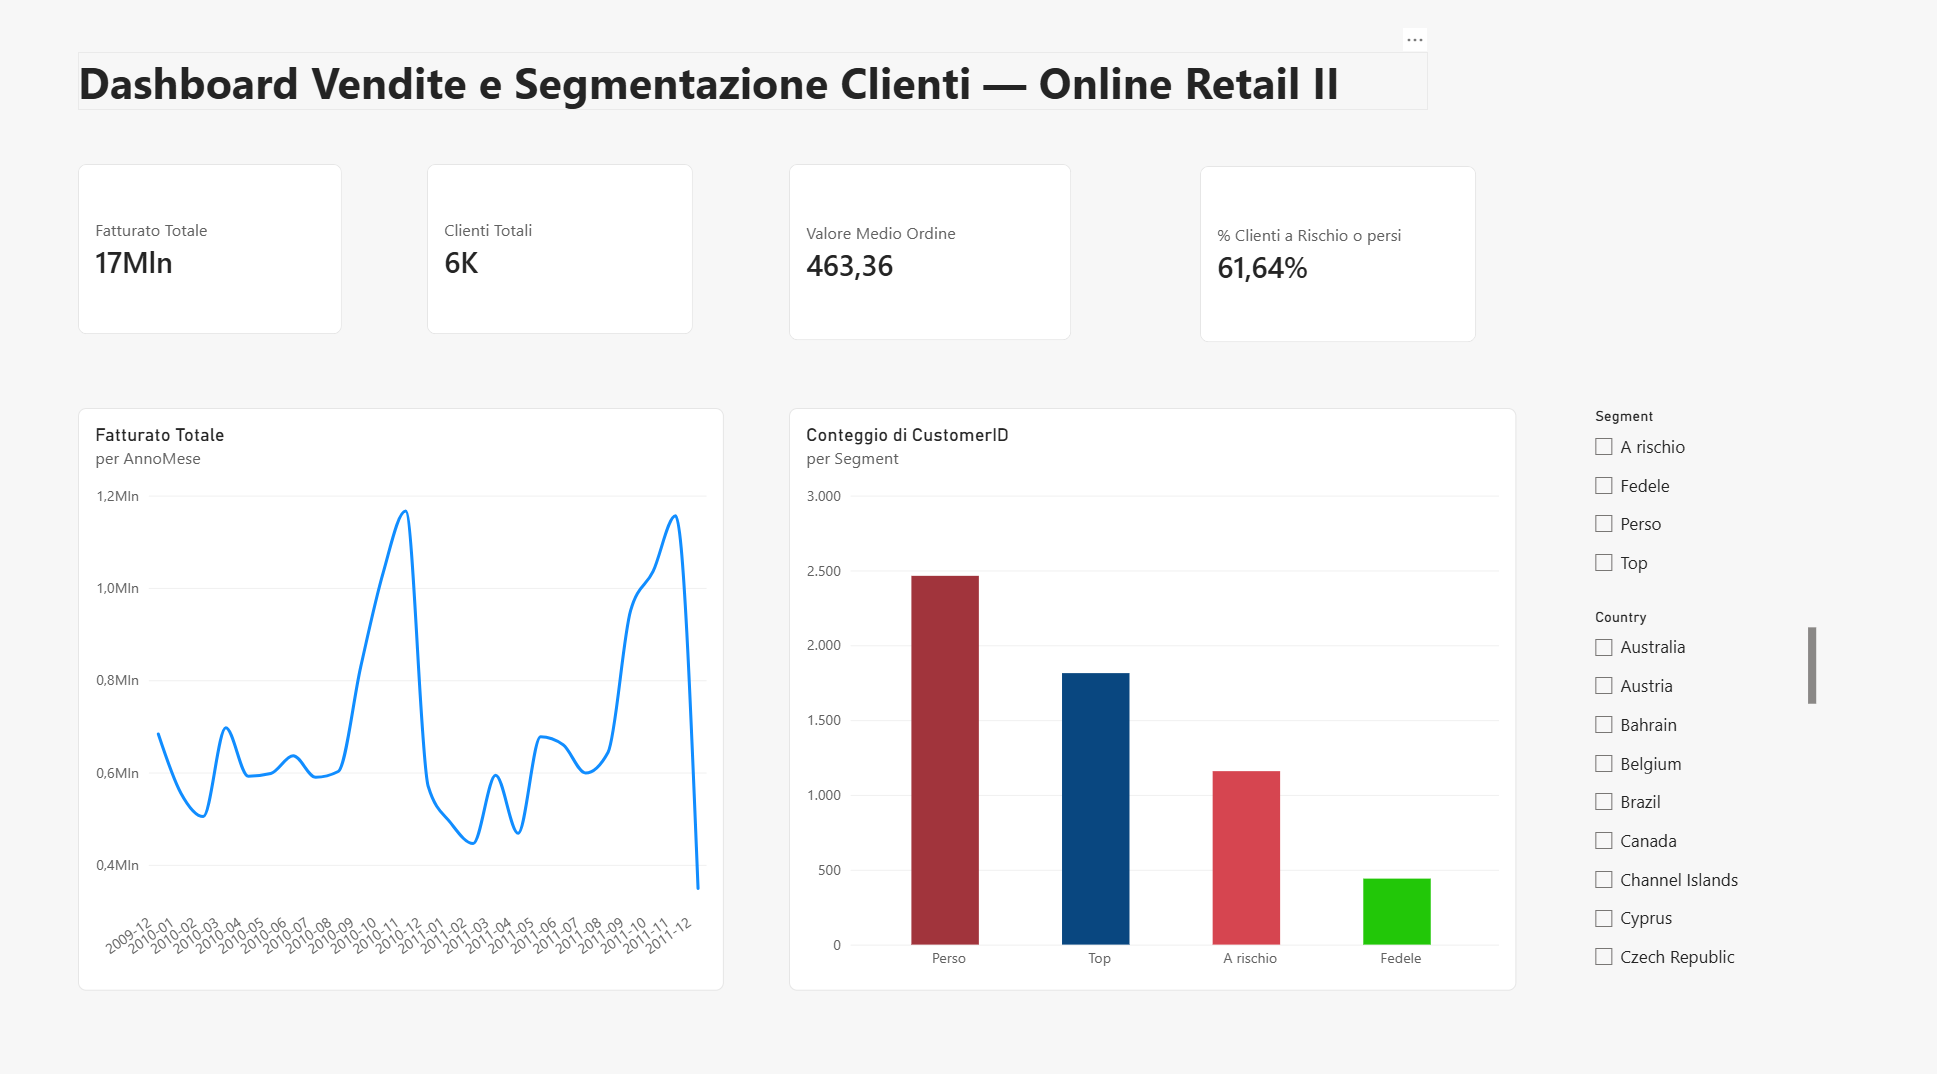

What the dashboard file says about the page in this screenshot:
{"tool":"powerbi","page":{"name":"Panoramica","canvas":[1920,1080],"ordinal":0},"visuals":[{"type":"cardVisual","fields":{"Data":["customer_rfm.Fatturato Totale"]},"box":[82.9,169.3,259.8,167.7],"z":0},{"type":"cardVisual","fields":{"Data":["customer_rfm.Clienti Totali"]},"box":[425,169.3,261.3,167.7],"z":1000},{"type":"cardVisual","fields":{"Data":["customer_rfm.% Clienti a Rischio"]},"box":[1183.7,170.5,271.9,173.7],"z":2000},{"type":"cardVisual","fields":{"Data":["customer_rfm.Valore Medio Ordine"]},"box":[780.1,169.3,278,173.7],"z":3000},{"type":"clusteredColumnChart","fields":{"Category":["customer_rfm.Segment"],"Y":["Count(customer_rfm.CustomerID)"]},"box":[780.1,408.4,713.8,571.7],"z":4000},{"type":"lineChart","fields":{"Category":["online_retail_clean.AnnoMese"],"Y":["customer_rfm.Fatturato Totale"]},"box":[82.9,408.4,634.5,571.7],"z":5000},{"type":"slicer","fields":{"Values":["online_retail_clean.Country"]},"box":[1563.7,606.1,224.9,361],"z":6000},{"type":"slicer","fields":{"Values":["customer_rfm.Segment"]},"box":[1563.7,408.4,292.4,171.6],"z":7000},{"type":"textbox","box":[82.9,59.2,1324.6,56.8],"z":8000}]}

Visuals, with their boxes in screenshot pixels (x1, y1, x2, y2), scaled from the page's 1920x1080 canvas onto the 1937x1074 screenshot:
cardVisual - customer_rfm.Fatturato Totale: pyautogui.locateOnScreen(84, 168, 346, 335)
cardVisual - customer_rfm.Clienti Totali: pyautogui.locateOnScreen(429, 168, 692, 335)
cardVisual - customer_rfm.% Clienti a Rischio: pyautogui.locateOnScreen(1194, 170, 1468, 342)
cardVisual - customer_rfm.Valore Medio Ordine: pyautogui.locateOnScreen(787, 168, 1067, 341)
clusteredColumnChart - customer_rfm.Segment x Count(customer_rfm.CustomerID): pyautogui.locateOnScreen(787, 406, 1507, 975)
lineChart - online_retail_clean.AnnoMese x customer_rfm.Fatturato Totale: pyautogui.locateOnScreen(84, 406, 724, 975)
slicer - online_retail_clean.Country: pyautogui.locateOnScreen(1578, 603, 1804, 962)
slicer - customer_rfm.Segment: pyautogui.locateOnScreen(1578, 406, 1873, 577)
textbox: pyautogui.locateOnScreen(84, 59, 1420, 115)
